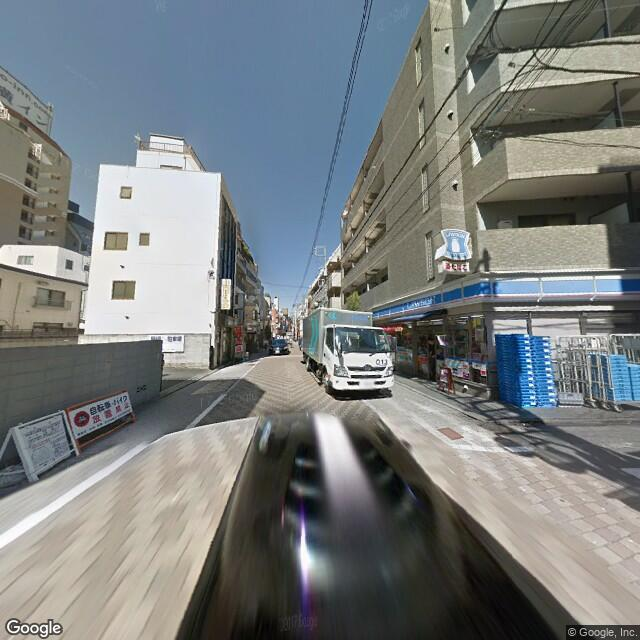lawson: (370, 265, 638, 319), (442, 226, 471, 262)
